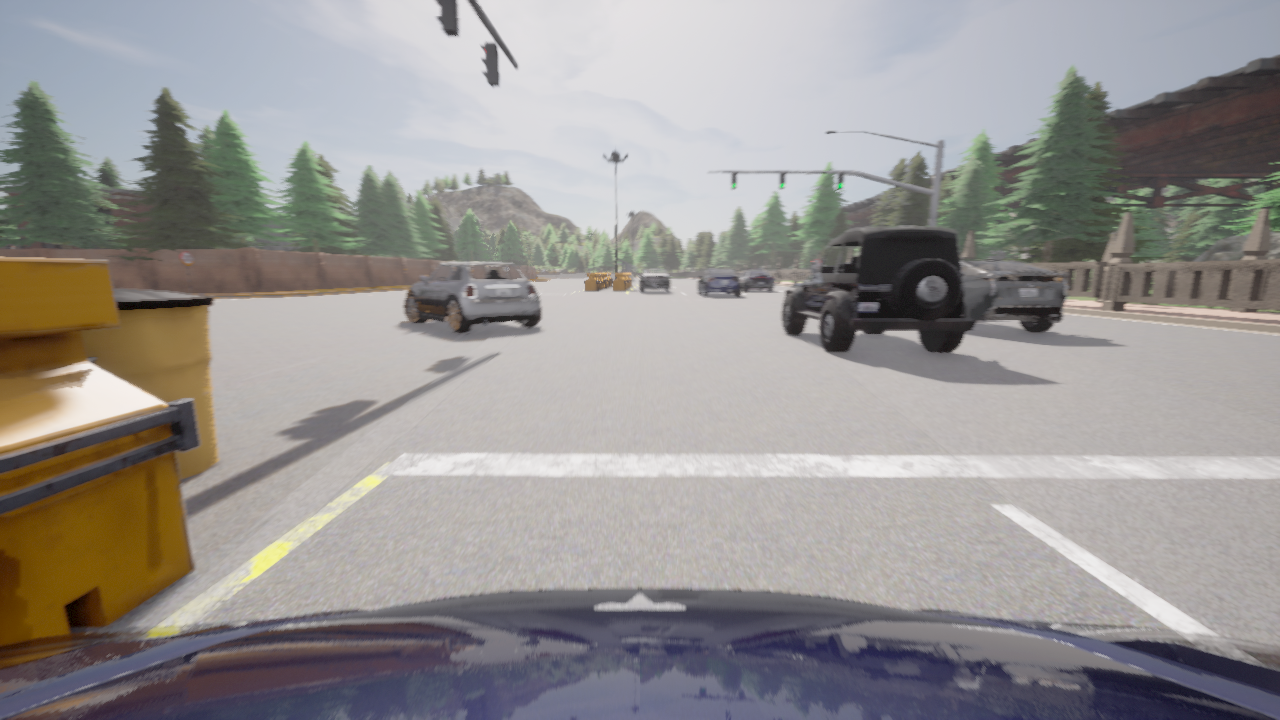cyclist: (0, 588, 1279, 719), (782, 226, 974, 352), (404, 261, 540, 332), (961, 259, 1067, 332), (698, 268, 740, 296), (738, 269, 774, 291), (639, 269, 670, 292)
